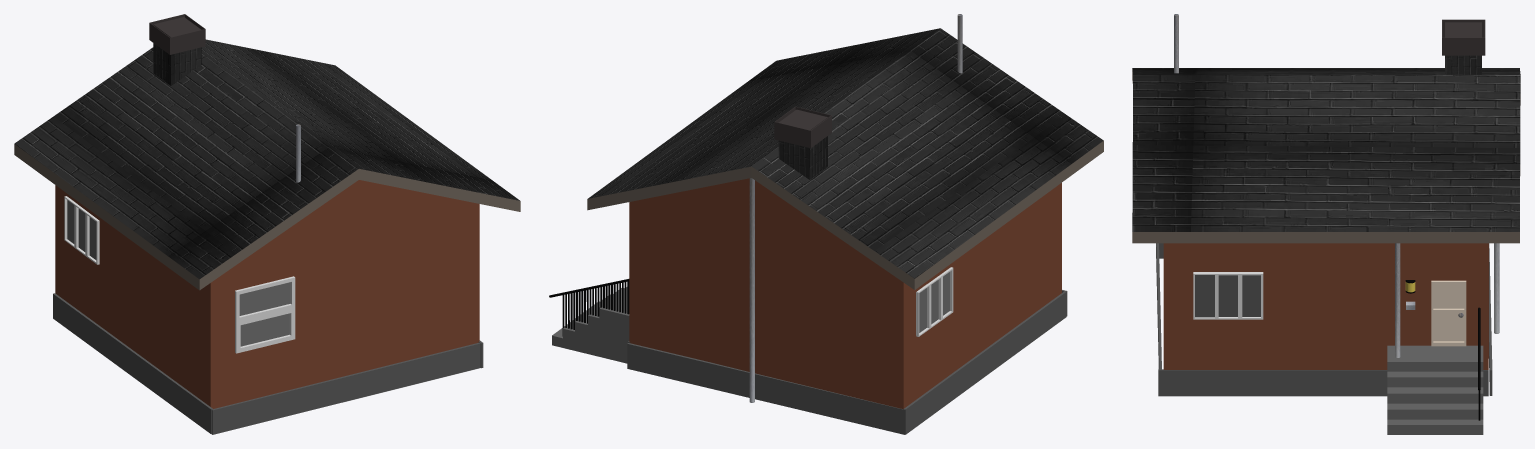
Rendered from hOUSE 5.fbx.
3 views of the same model, side by side, from view 1: azimuth 30°, elevation 25°; view 2: azimuth 150°, elevation 25°; view 3: azimuth 270°, elevation 25° (orthographic). The views are drawn at different scales.
Parts seen in each view (by area): view 1: Cube, Cube.007, Cube.005, Plane.002, Cube.001, Plane.003; view 2: Cube, Cube.008, Cube.005, Cube.003, Cube.001, Cylinder.003, Plane.003, Cylinder.007; view 3: Cube, Cube.003, Cube.004, Cube.006, Plane.004, Plane, Cube.001, Cylinder.006, Cylinder.007, Cube.007, Cube.008.
Boxes of the visible parts, x1,y1,x2,y2 form: Cube: (14, 39, 520, 408); Cube.007: (211, 342, 480, 434); Cube.005: (53, 293, 212, 433); Plane.002: (235, 276, 295, 353); Cube.001: (149, 14, 205, 85); Plane.003: (64, 196, 99, 264); Cube: (587, 28, 1103, 408); Cube.008: (627, 343, 904, 434); Cube.005: (903, 291, 1066, 434); Cube.003: (552, 287, 629, 363); Cube.001: (774, 106, 831, 179); Cylinder.003: (562, 281, 629, 336); Plane.003: (916, 267, 953, 336); Cylinder.007: (749, 178, 754, 402); Cube: (1132, 68, 1520, 369); Cube.003: (1387, 345, 1483, 434); Cube.004: (1165, 370, 1387, 396); Cube.006: (1158, 369, 1488, 396); Plane.004: (1193, 273, 1263, 319); Plane: (1431, 280, 1466, 346); Cube.001: (1442, 19, 1485, 74); Cylinder.006: (1395, 243, 1400, 357); Cylinder.007: (1494, 243, 1499, 333); Cube.007: (1156, 243, 1161, 369); Cube.008: (1489, 243, 1492, 395).
Bounding box in the file's own units: 876 × 619 × 746.
